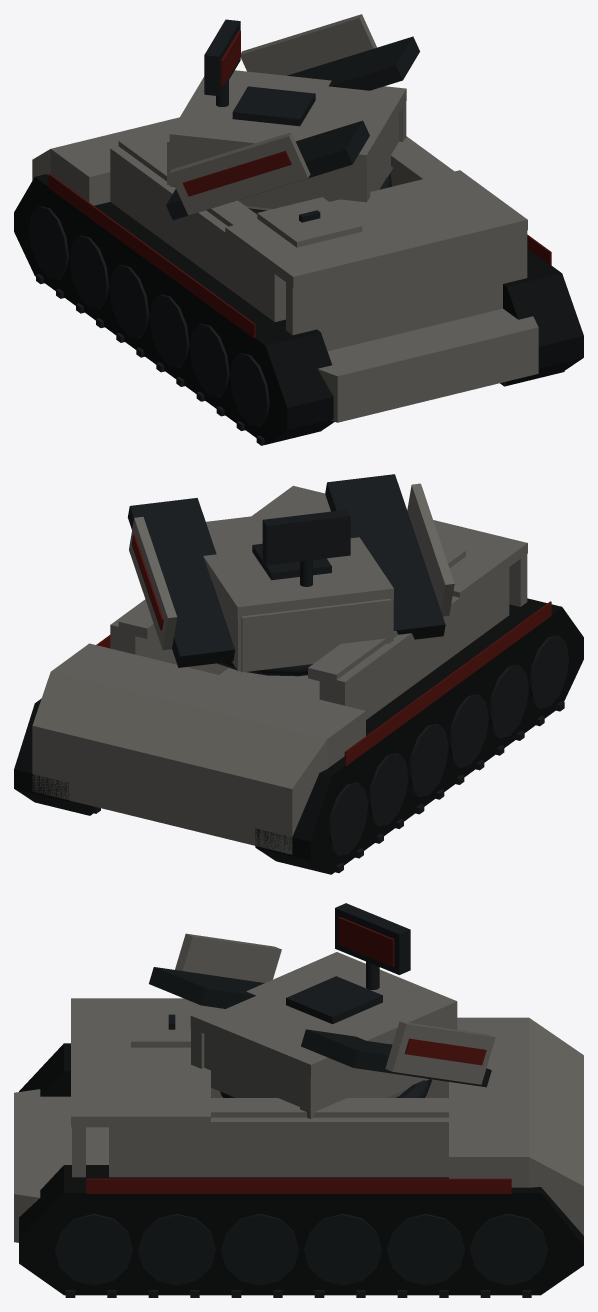
The picture shows the model from 3 angles, top to bottom: view 1: azimuth 30°, elevation 25°; view 2: azimuth 150°, elevation 25°; view 3: azimuth 270°, elevation 25°; orthographic projection. The views are drawn at different scales.
Visible parts, largest first — view 1: aa-tank-painted, turret-fleet-armor, launcher-left-fleet-armor, launcher-right-fleet-armor, launcher-right-fleet-machine, launcher-left-fleet-machine, turret-fleet-machine, launcher-left-fleet-red, radar-fleet-machine, radar-fleet-red; view 2: aa-tank-painted, turret-fleet-armor, launcher-right-fleet-machine, launcher-left-fleet-machine, radar-fleet-machine, launcher-left-fleet-armor, launcher-right-fleet-armor, turret-fleet-machine, launcher-right-fleet-red; view 3: aa-tank-painted, turret-fleet-armor, launcher-right-fleet-armor, launcher-left-fleet-armor, turret-fleet-machine, launcher-left-fleet-machine, launcher-right-fleet-machine, radar-fleet-machine, radar-fleet-red, launcher-right-fleet-red.
Part boxes in pixels (<box>): aa-tank-painted: <box>14,117,583,445</box>; turret-fleet-armor: <box>167,70,406,208</box>; launcher-left-fleet-armor: <box>169,132,310,215</box>; launcher-right-fleet-armor: <box>241,14,376,75</box>; launcher-right-fleet-machine: <box>287,36,419,90</box>; launcher-left-fleet-machine: <box>166,120,369,220</box>; turret-fleet-machine: <box>216,80,315,126</box>; launcher-left-fleet-red: <box>182,150,291,196</box>; radar-fleet-machine: <box>204,19,240,96</box>; radar-fleet-red: <box>221,30,240,86</box>; aa-tank-painted: <box>14,485,583,874</box>; turret-fleet-armor: <box>203,507,393,672</box>; launcher-right-fleet-machine: <box>127,498,235,667</box>; launcher-left-fleet-machine: <box>325,474,445,639</box>; radar-fleet-machine: <box>262,510,350,565</box>; launcher-left-fleet-armor: <box>407,483,454,616</box>; launcher-right-fleet-armor: <box>129,516,177,649</box>; turret-fleet-machine: <box>252,543,331,586</box>; launcher-right-fleet-red: <box>131,534,163,630</box>; aa-tank-painted: <box>14,998,583,1297</box>; turret-fleet-armor: <box>190,952,457,1118</box>; launcher-right-fleet-armor: <box>385,1021,495,1084</box>; launcher-left-fleet-armor: <box>175,933,281,982</box>; turret-fleet-machine: <box>286,961,382,1024</box>; launcher-left-fleet-machine: <box>149,967,264,1008</box>; launcher-right-fleet-machine: <box>301,1029,491,1087</box>; radar-fleet-machine: <box>335,903,410,974</box>; radar-fleet-red: <box>338,917,394,966</box>; launcher-right-fleet-red: <box>404,1038,486,1065</box>.
Size of the model in its own units: 21.39 by 18.35 by 33.68.
